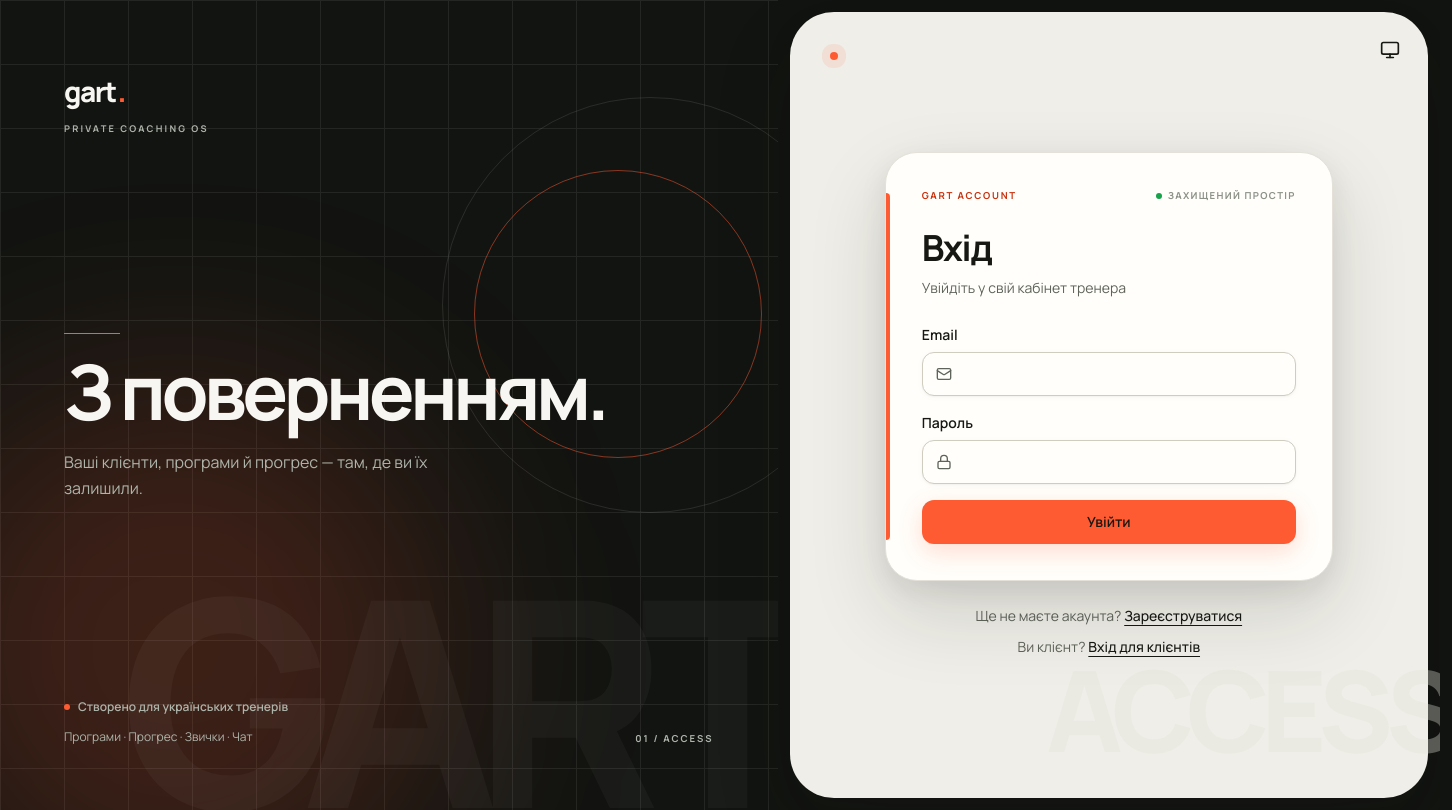
Test: auth screens › shows a field error without contacting the API
Step 1. Click the button "Увійти" → (1109, 522), box [922,500,1296,544]
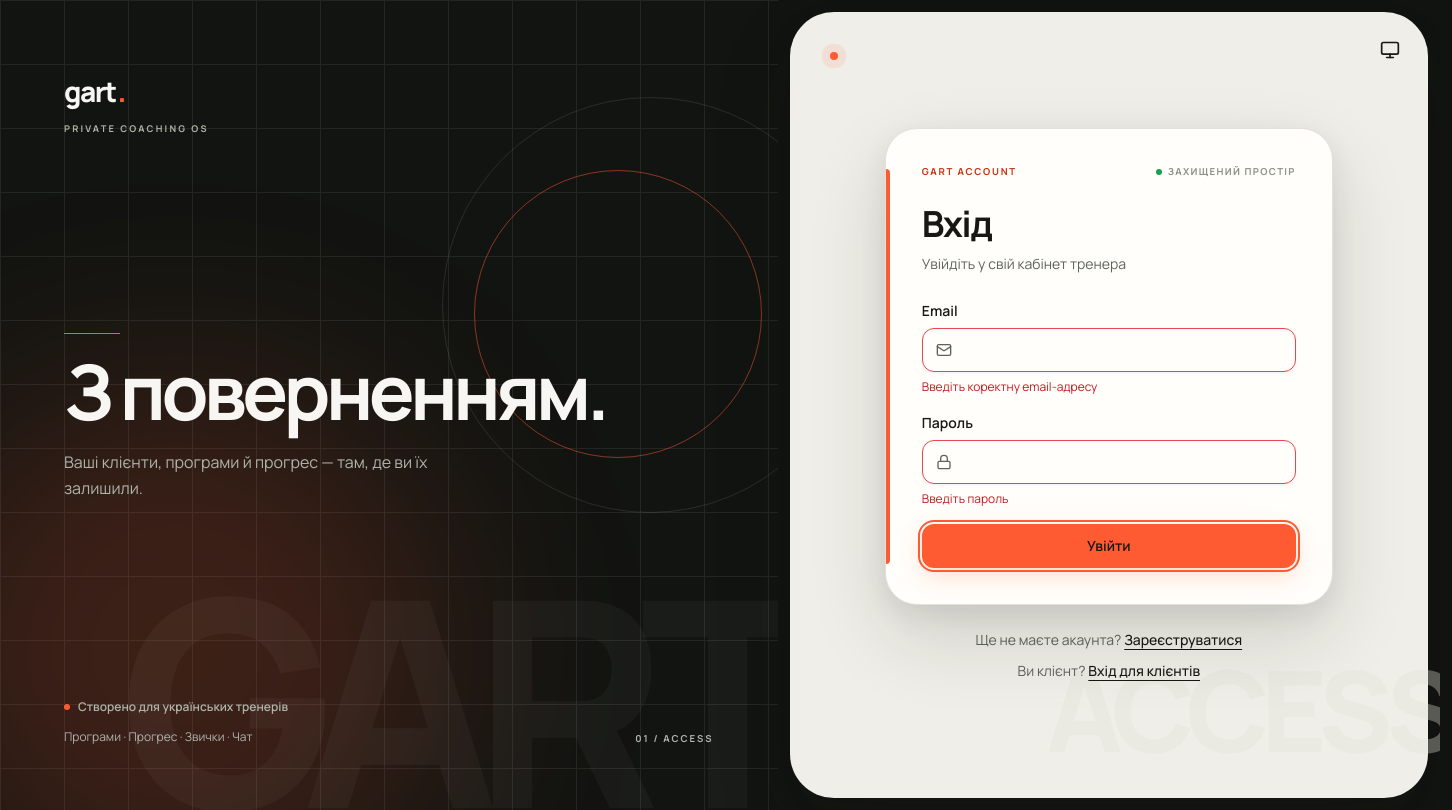
Check: the text "Введіть пароль" is shown, box [922,490,1008,507]
